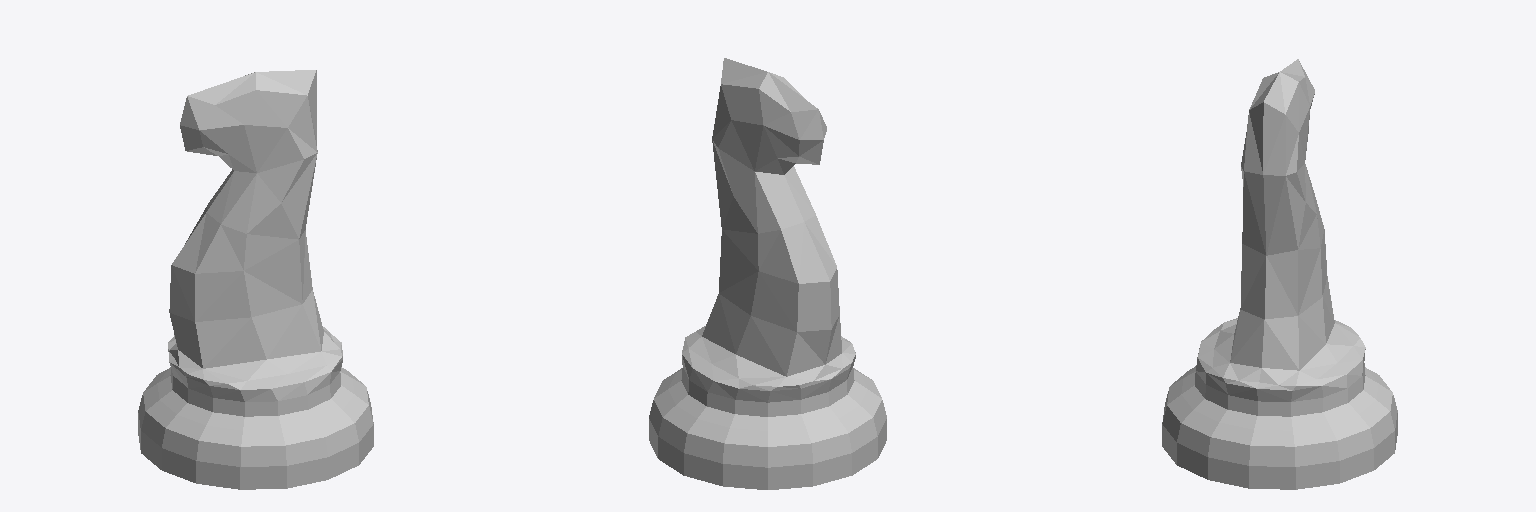
Rendered from horse.obj.
3 views of the same model, side by side, from view 1: azimuth 30°, elevation 25°; view 2: azimuth 150°, elevation 25°; view 3: azimuth 270°, elevation 25° (orthographic).
Parts seen in each view (by area): view 1: Knight_Cylinder.001; view 2: Knight_Cylinder.001; view 3: Knight_Cylinder.001.
Boxes of the visible parts, x1,y1,x2,y2 form: Knight_Cylinder.001: [138, 70, 373, 489]; Knight_Cylinder.001: [649, 58, 886, 489]; Knight_Cylinder.001: [1162, 59, 1397, 489].
Size of the model in its own units: 0.8285 by 1.43 by 0.8285.